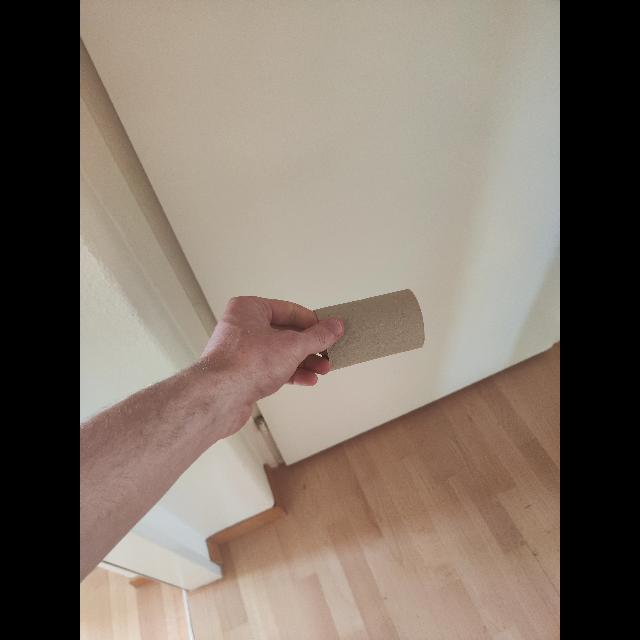Cardboard: (300, 287, 428, 375)
